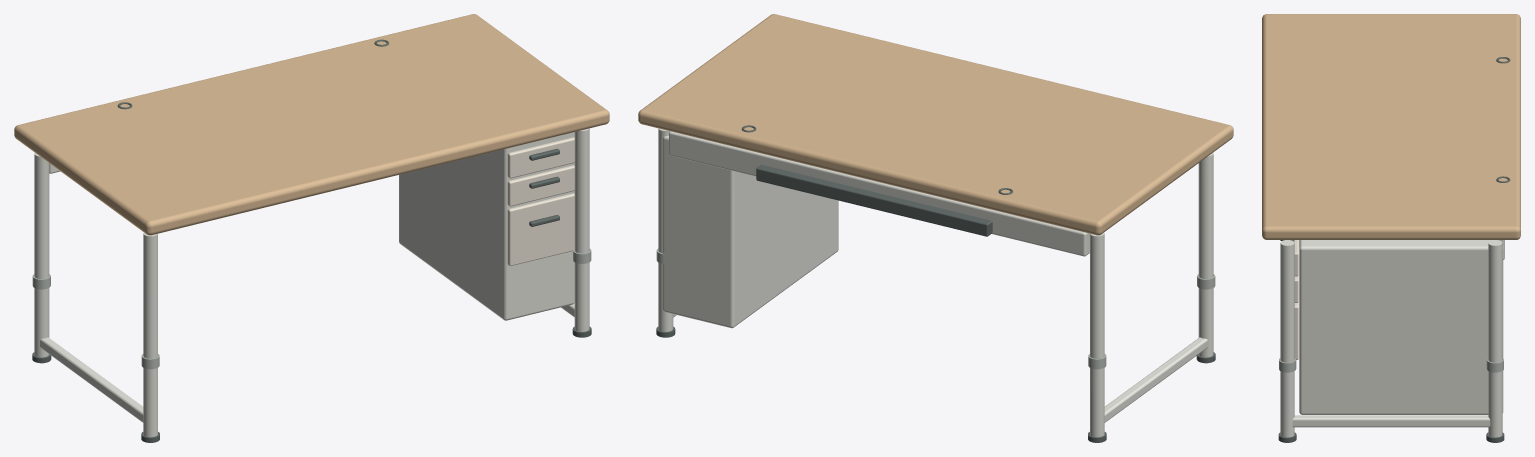
Rendered from urban-workdesk-detailed-v1.glb.
3 views of the same model, side by side, from view 1: azimuth 30°, elevation 25°; view 2: azimuth 150°, elevation 25°; view 3: azimuth 270°, elevation 25° (orthographic). The views are drawn at different scales.
Parts seen in each view (by area): view 1: Wood-tabletop, Drawer-cabinet, Round-telescoping-leg (×3), Drawer-front (×3), Foot-cross-brace; view 2: Wood-tabletop, Drawer-cabinet, Under-desk-apron, Round-telescoping-leg (×3), Cable-tray, Foot-cross-brace; view 3: Wood-tabletop, Drawer-cabinet, Round-telescoping-leg (×2), Foot-cross-brace, Drawer-front.
Part boxes in pixels (x1,y1,x2,y2): Wood-tabletop: (14,14,609,235); Drawer-cabinet: (399,132,574,320); Round-telescoping-leg (×3): (34,128,589,437); Drawer-front (×3): (507,137,574,266); Foot-cross-brace: (40,337,143,422); Wood-tabletop: (638,14,1233,235); Drawer-cabinet: (663,135,838,328); Under-desk-apron: (669,131,1089,256); Round-telescoping-leg (×3): (658,128,1213,437); Cable-tray: (756,164,992,236); Foot-cross-brace: (1104,337,1207,422); Wood-tabletop: (1262,14,1520,239); Drawer-cabinet: (1299,240,1503,414); Round-telescoping-leg (×2): (1280,240,1502,437); Foot-cross-brace: (1292,415,1490,427); Drawer-front: (1294,302,1298,359).
Size of the model in its own units: 1.3 by 0.6162 by 0.6589.
